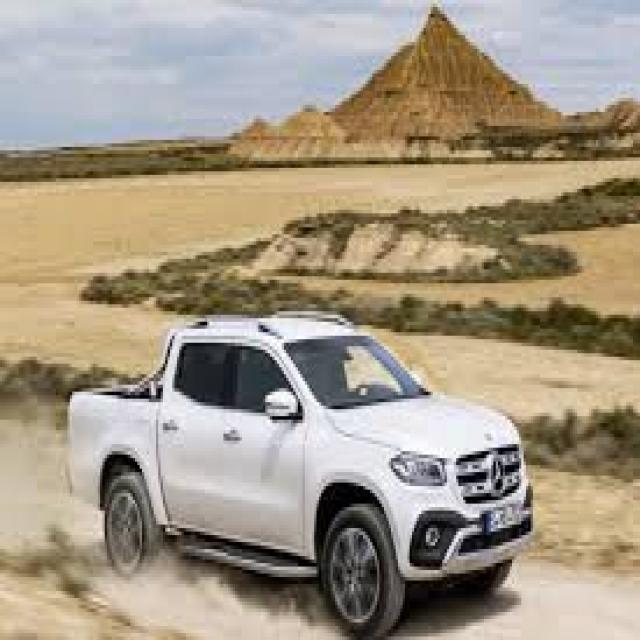Pickup Trucks: (67, 322, 533, 636)
